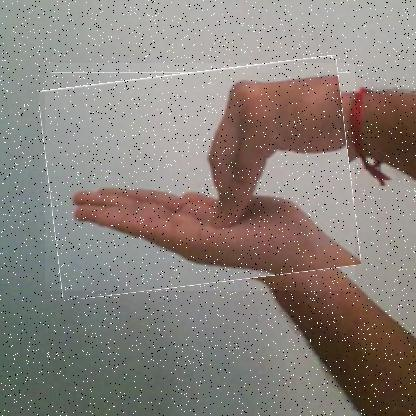Z: (44, 63, 355, 292)
